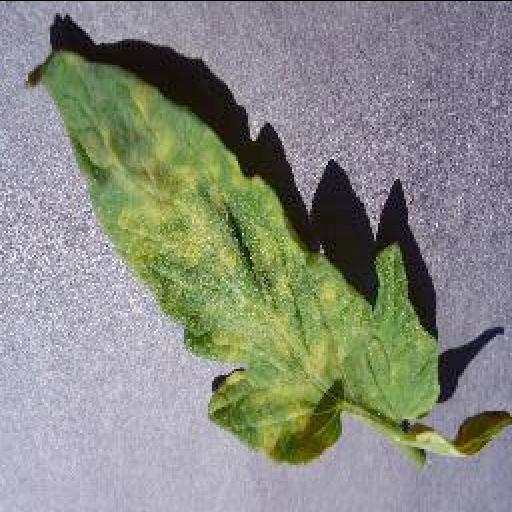disease_tomato: (24, 45, 440, 461)
